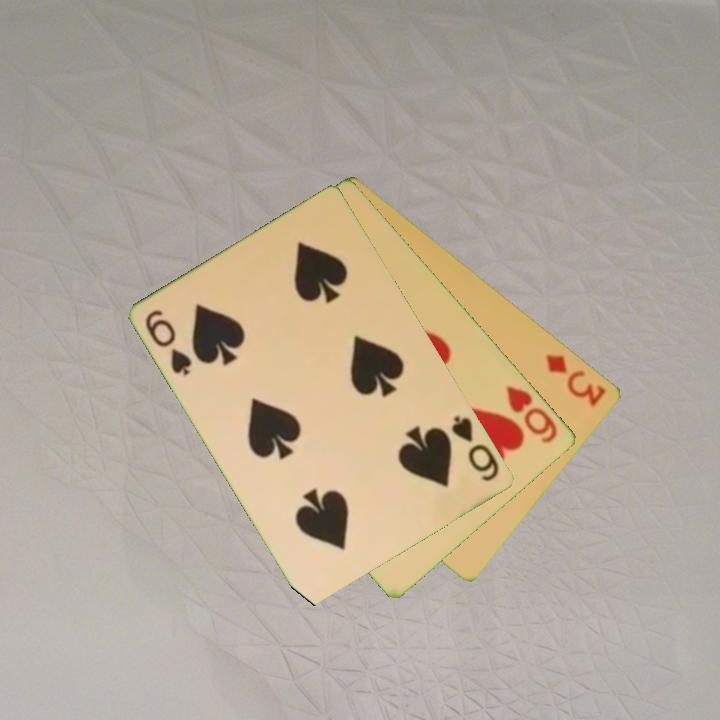3d: (542, 350, 610, 409)
6h: (502, 381, 561, 446)
6s: (448, 412, 503, 485), (142, 306, 196, 379)
